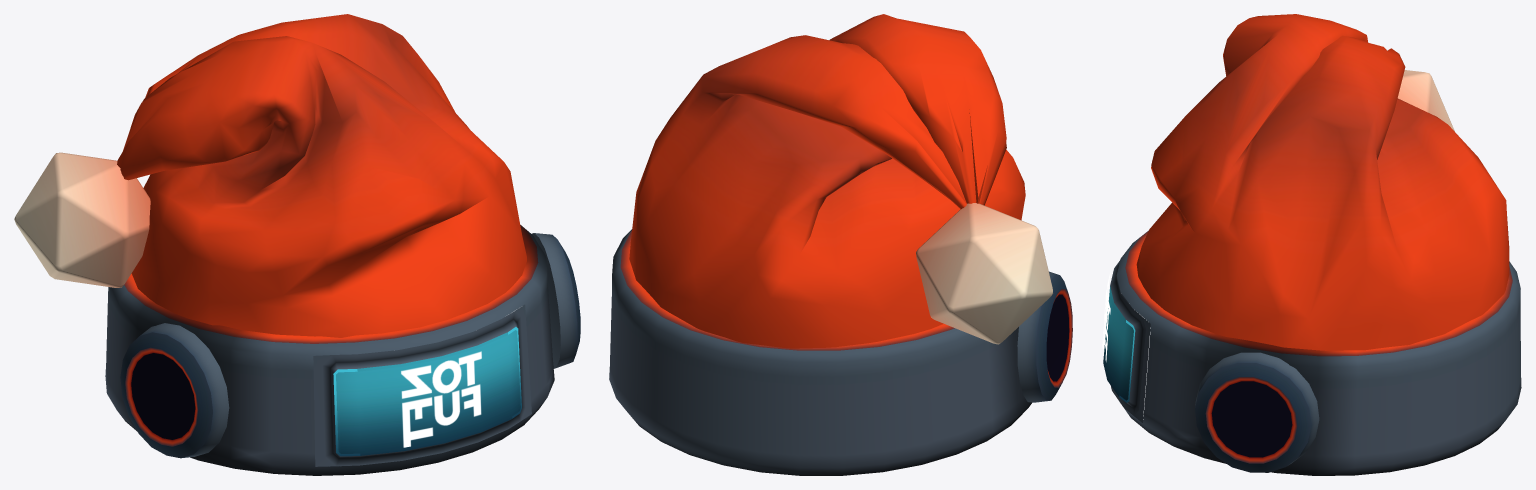
The model's file is Cap_NY_02_TOFUNFT.gltf.
3 renders of one model, left to right at view 1: azimuth 30°, elevation 25°; view 2: azimuth 150°, elevation 25°; view 3: azimuth 270°, elevation 25°, orthographic. The views are drawn at different scales.
Parts seen in each view (by area): view 1: Cap_NY_02_TOFUNFT; view 2: Cap_NY_02_TOFUNFT; view 3: Cap_NY_02_TOFUNFT.
Part boxes in pixels (x1=…): Cap_NY_02_TOFUNFT: x1=14, y1=14, x2=580, y2=475; Cap_NY_02_TOFUNFT: x1=609, y1=14, x2=1072, y2=475; Cap_NY_02_TOFUNFT: x1=1102, y1=14, x2=1521, y2=475.
Bounding box in the file's own units: 1.21 × 0.9287 × 1.01.
Materials: 4 (4 with a texture image).
